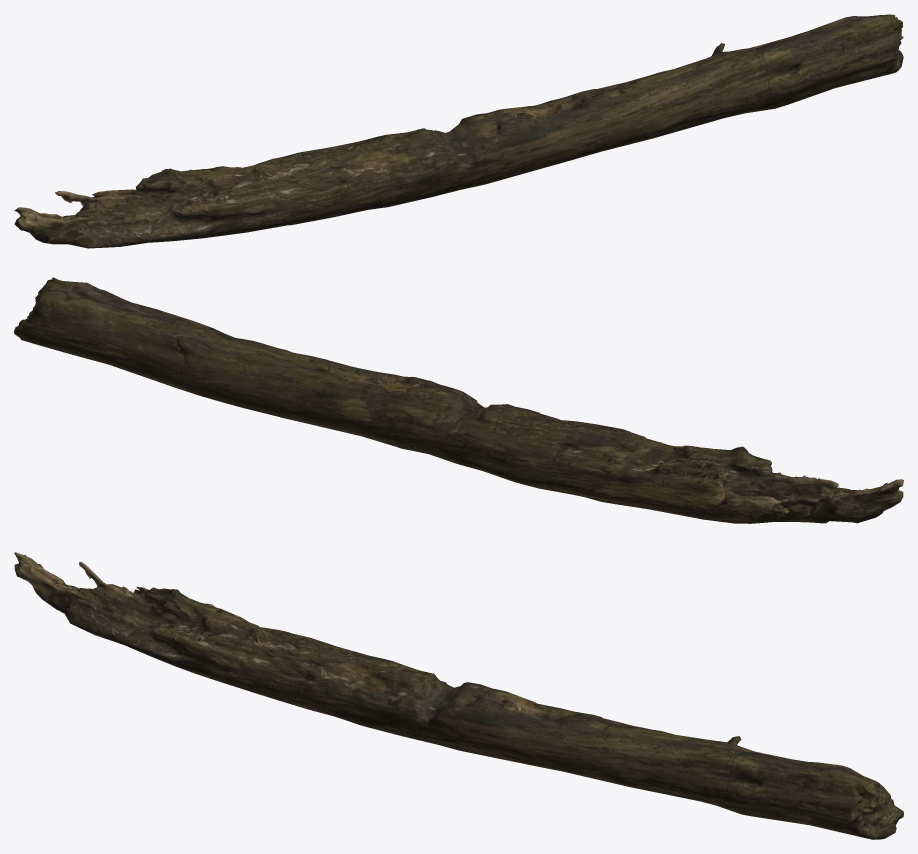
Rendered from dead_tree_trunk.glb.
3 renders of one model, top to bottom at view 1: azimuth 30°, elevation 25°; view 2: azimuth 150°, elevation 25°; view 3: azimuth 330°, elevation 25°, orthographic.
Parts seen in each view (by area): view 1: dead_tree_trunk; view 2: dead_tree_trunk; view 3: dead_tree_trunk.
Boxes of the visible parts, x1=… form: dead_tree_trunk: x1=14, y1=14, x2=903, y2=248; dead_tree_trunk: x1=14, y1=277, x2=903, y2=523; dead_tree_trunk: x1=14, y1=552, x2=903, y2=839.
Size of the model in its own units: 3.05 by 0.2904 by 0.2773.
1 material, 1 textured.
